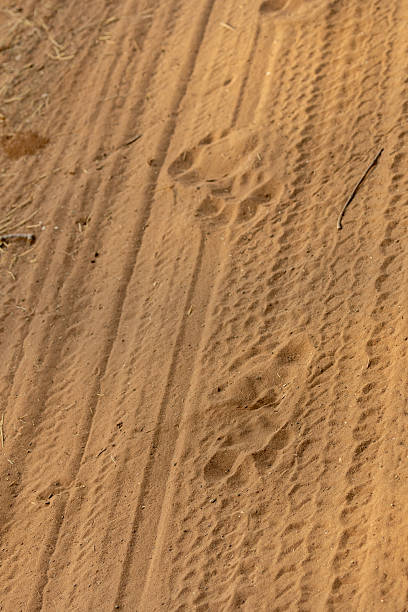animal_footprint: (203, 333, 312, 485), (168, 126, 284, 224)
